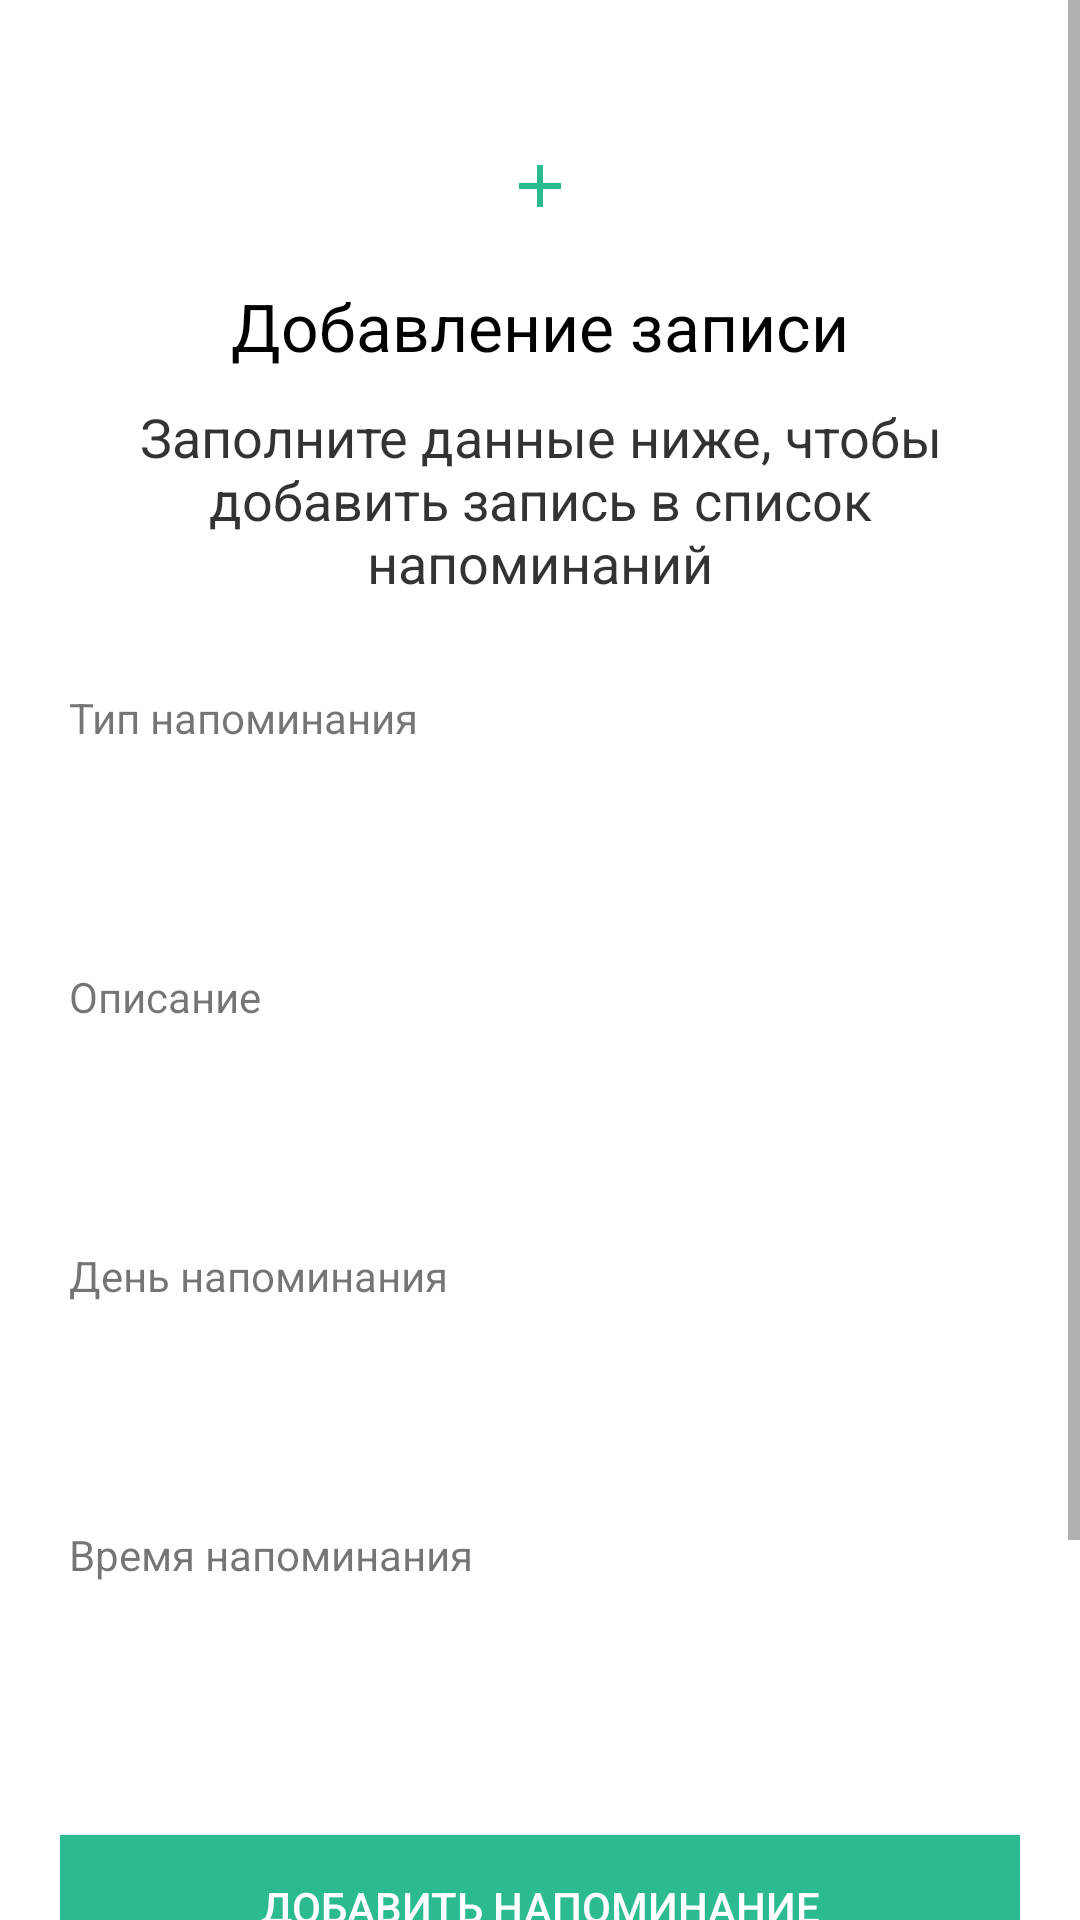

Screen size 1080px x 1920px. Icon name, then its box in pixels as (x1, y1, x2, y2):
add: (519, 165, 561, 207)
